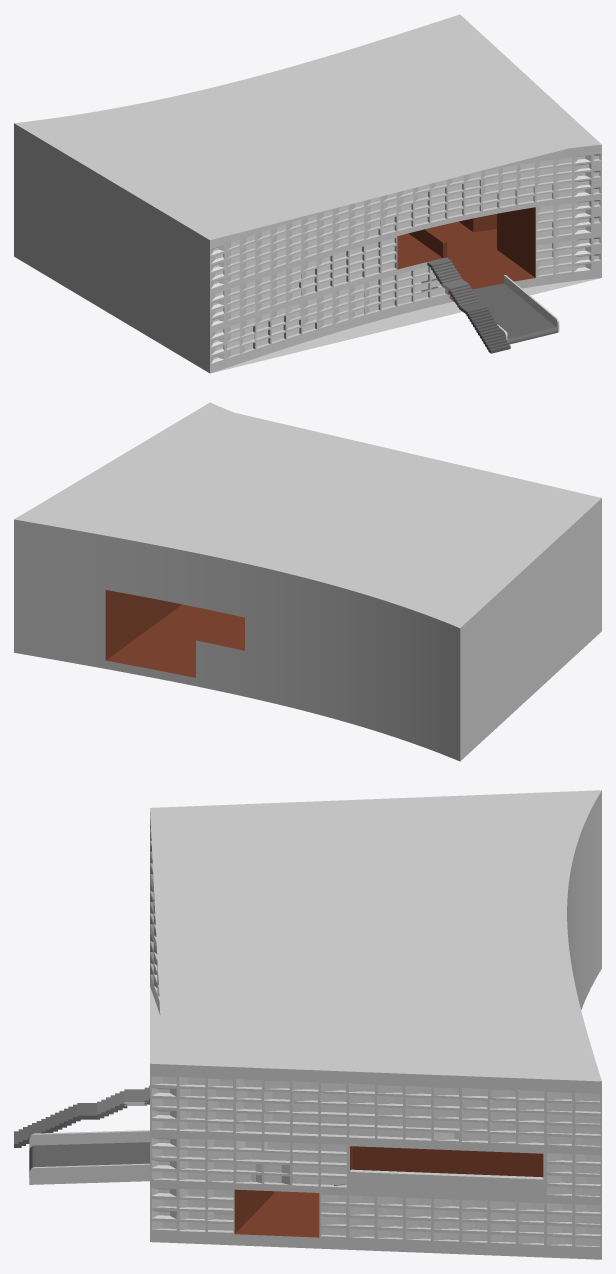
The model's file is Lynn.fbx.
The picture shows the model from 3 angles, top to bottom: view 1: azimuth 30°, elevation 25°; view 2: azimuth 150°, elevation 25°; view 3: azimuth 270°, elevation 25°; orthographic projection. The views are drawn at different scales.
Visible parts, largest first — view 1: NURBS 路径.001, 立方体.005; view 2: NURBS 路径.001; view 3: NURBS 路径.001, 立方体.005.
Part boxes in pixels (left/top/right/bottom): NURBS 路径.001: left=14, top=14, right=601, bottom=373; 立方体.005: left=466, top=308, right=510, bottom=353; NURBS 路径.001: left=14, top=402, right=601, bottom=761; NURBS 路径.001: left=29, top=790, right=601, bottom=1259; 立方体.005: left=14, top=1104, right=80, bottom=1147.
Bounding box in the file's own units: 455 × 130 × 388.
